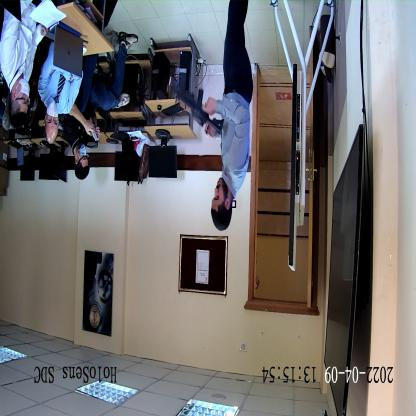handgun: (170, 76, 225, 134)
